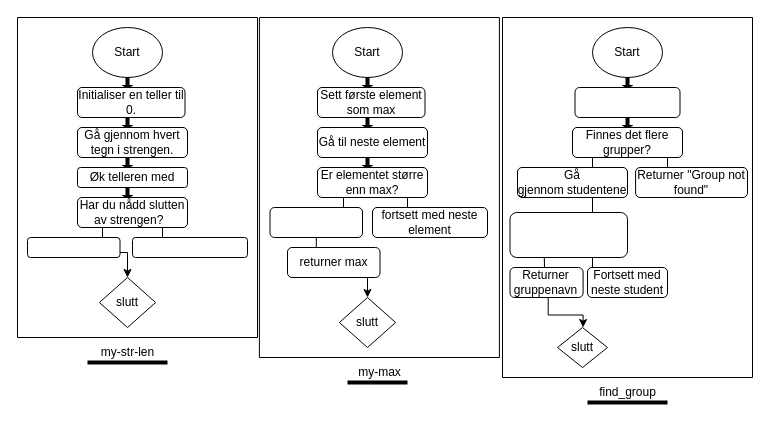
The diagram is 770 pixels wide and 427 high, and some of its shapes have lost their labels. The shapes that lost their labels are listed below. From the top down, each one's centre as x and y in pixels, then its label:
At point 627,102: "Gå gjennom gruppelisten".
At point 315,222: "oppdater max".
At point 568,235: "Sjekk om studentens navnstemmer overens?".
At point 73,247: "returner telleren".
At point 190,247: "fortsett til neste tegn".
